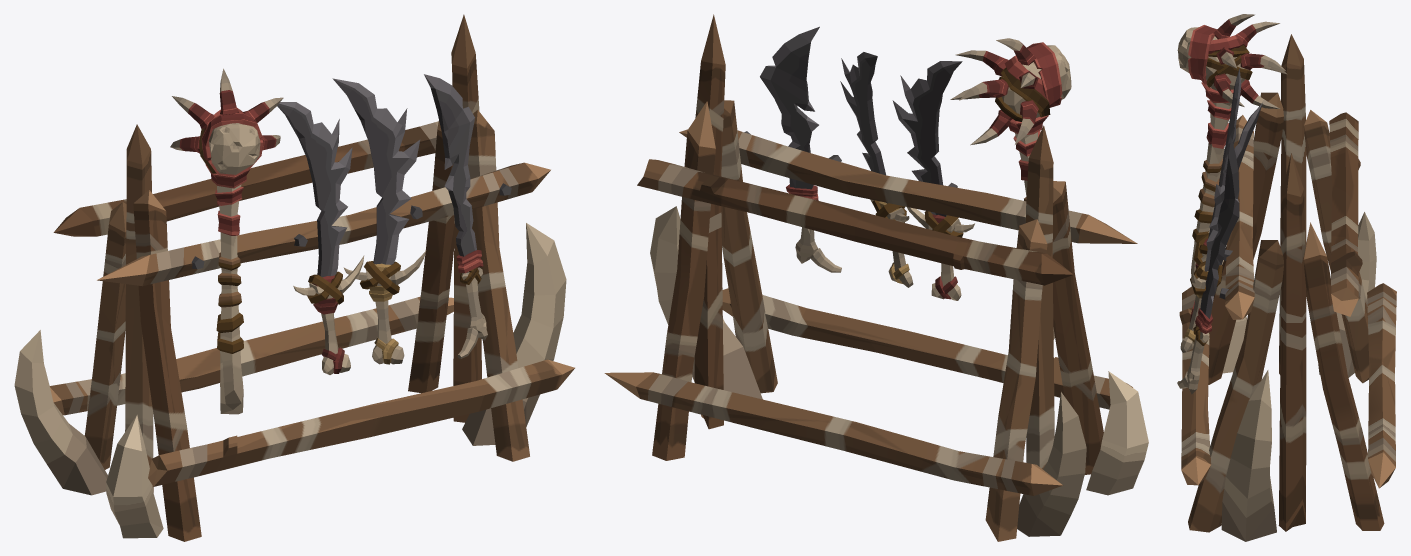
File: bog_weapon_rack.gltf
3 renders of one model, left to right at view 1: azimuth 30°, elevation 25°; view 2: azimuth 150°, elevation 25°; view 3: azimuth 270°, elevation 25°, orthographic. The views are drawn at different scales.
Parts seen in each view (by area): view 1: bog_weapon_rack; view 2: bog_weapon_rack; view 3: bog_weapon_rack.
Boxes of the visible parts, x1,y1,x2,y2 form: bog_weapon_rack: (14,14,574,541); bog_weapon_rack: (604,14,1148,541); bog_weapon_rack: (1177,14,1396,541).
Size of the model in its own units: 2.37 by 1.97 by 0.9972.
Materials: 1 (1 with a texture image).
